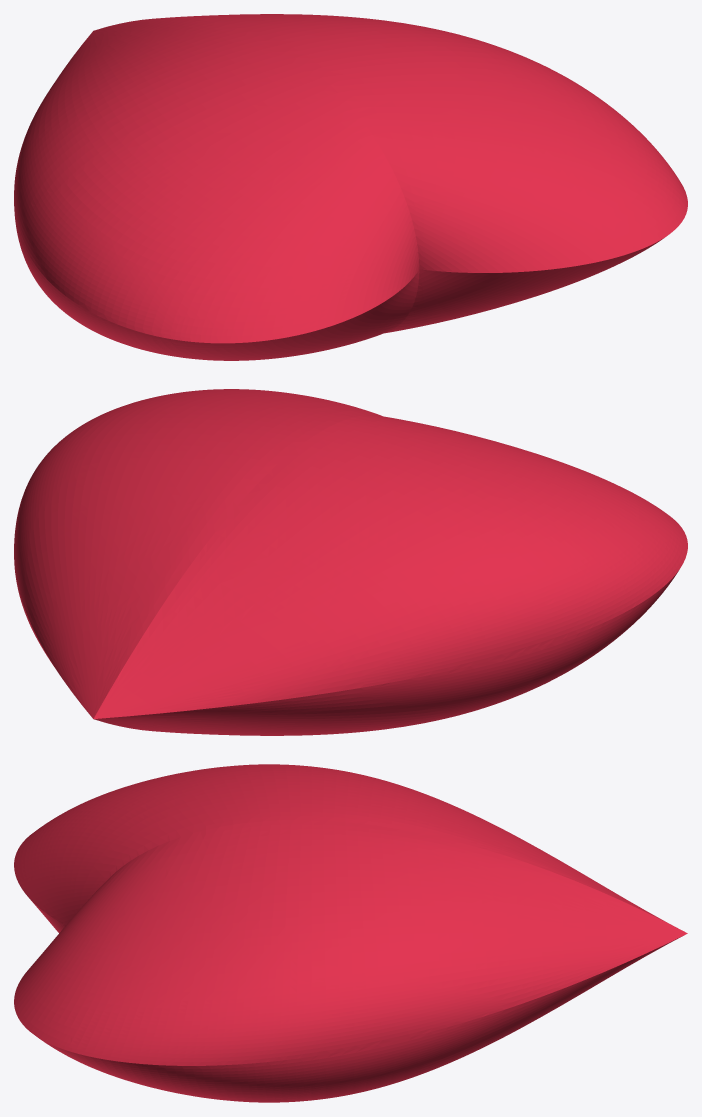
Rendered from heart_shiny.obj.
The picture shows the model from 3 angles, top to bottom: view 1: azimuth 30°, elevation 25°; view 2: azimuth 150°, elevation 25°; view 3: azimuth 270°, elevation 25°; orthographic projection. The views are drawn at different scales.
Parts seen in each view (by area): view 1: Object.1; view 2: Object.1; view 3: Object.1.
Part boxes in pixels (bbox=[...]): Object.1: bbox=[14, 14, 687, 360]; Object.1: bbox=[14, 389, 687, 735]; Object.1: bbox=[14, 764, 687, 1102].
Size of the model in its own units: 0.354 by 0.1413 by 0.3805.
